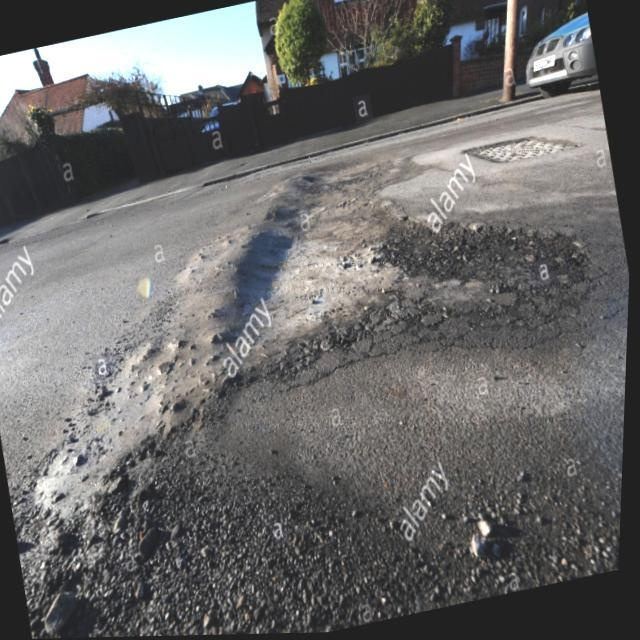pothole: (36, 167, 618, 634)
